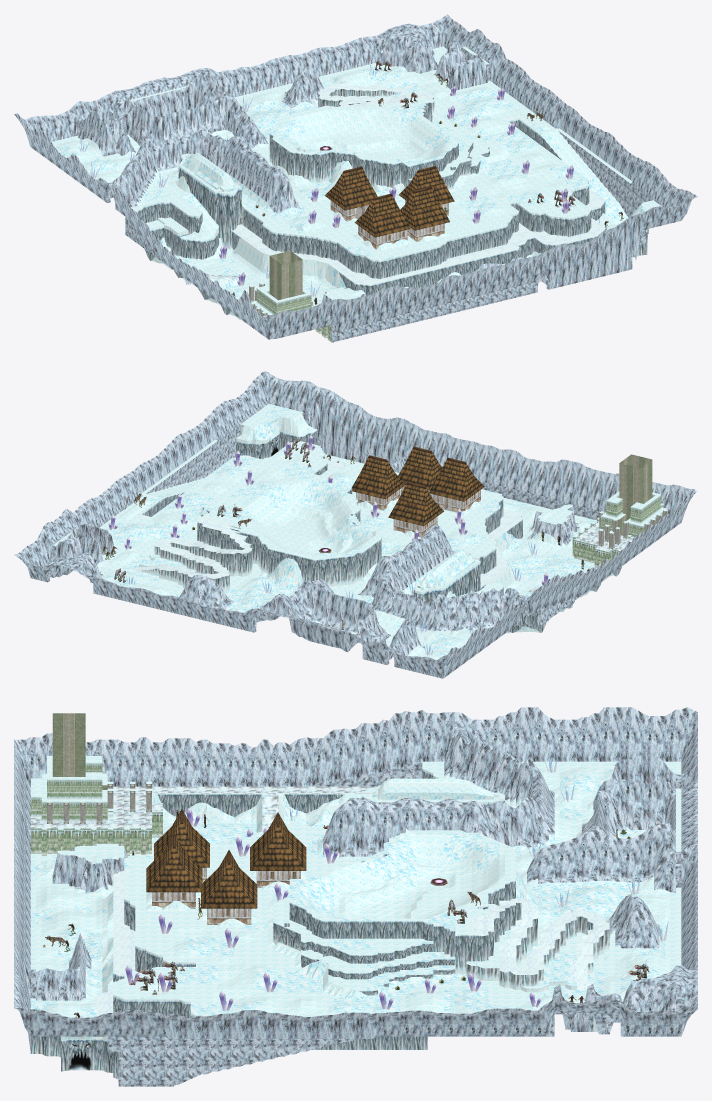
File: map.gltf
The picture shows the model from 3 angles, top to bottom: view 1: azimuth 30°, elevation 25°; view 2: azimuth 150°, elevation 25°; view 3: azimuth 270°, elevation 25°; orthographic projection. The views are drawn at different scales.
Bounding box in the file's own units: 124 × 23.25 × 124.
45 materials, 45 textured.
